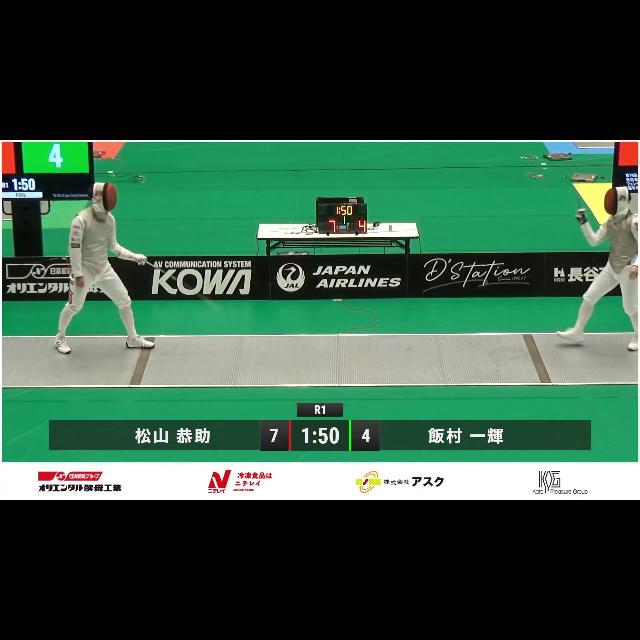blade: (137, 254, 226, 316), (564, 156, 590, 222)
